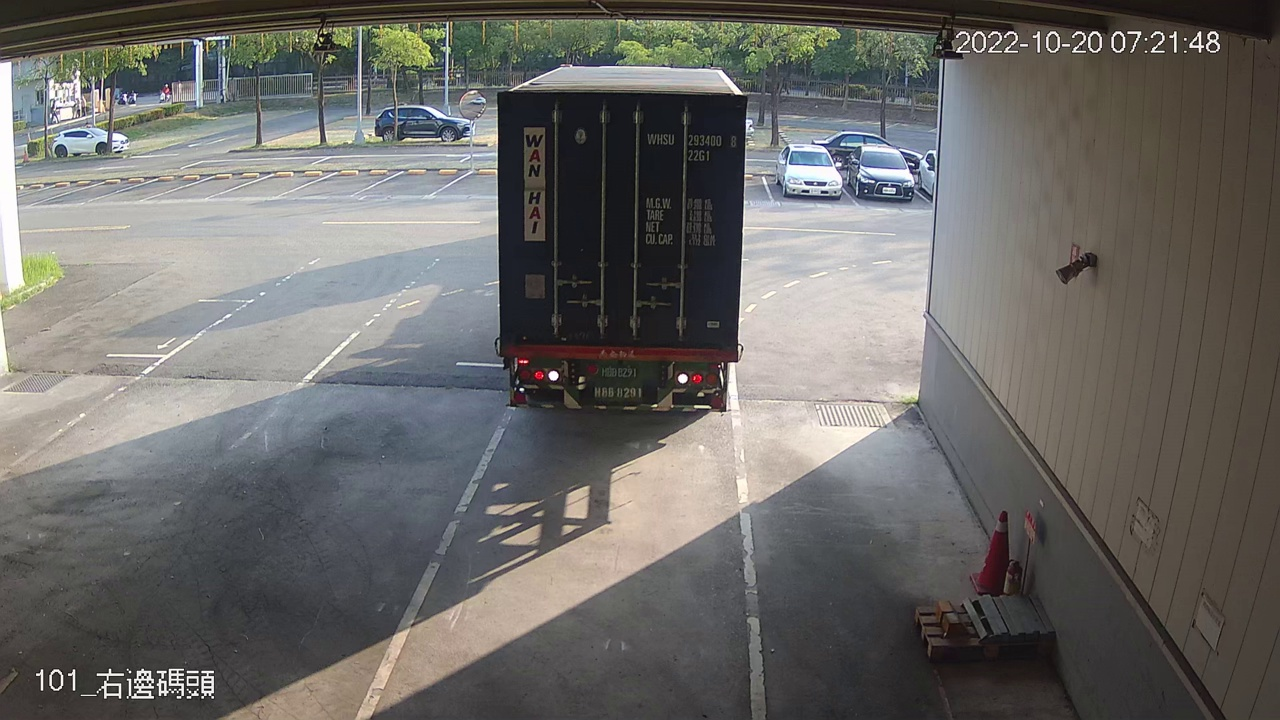container: (642, 125, 741, 167)
